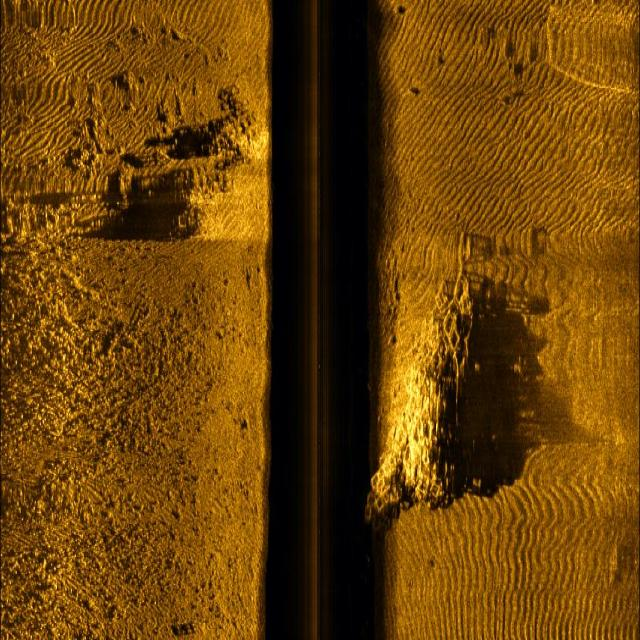artificial reef: (361, 266, 481, 532)
